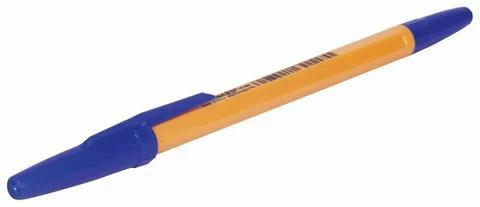pen-pencil: (8, 7, 471, 198)
